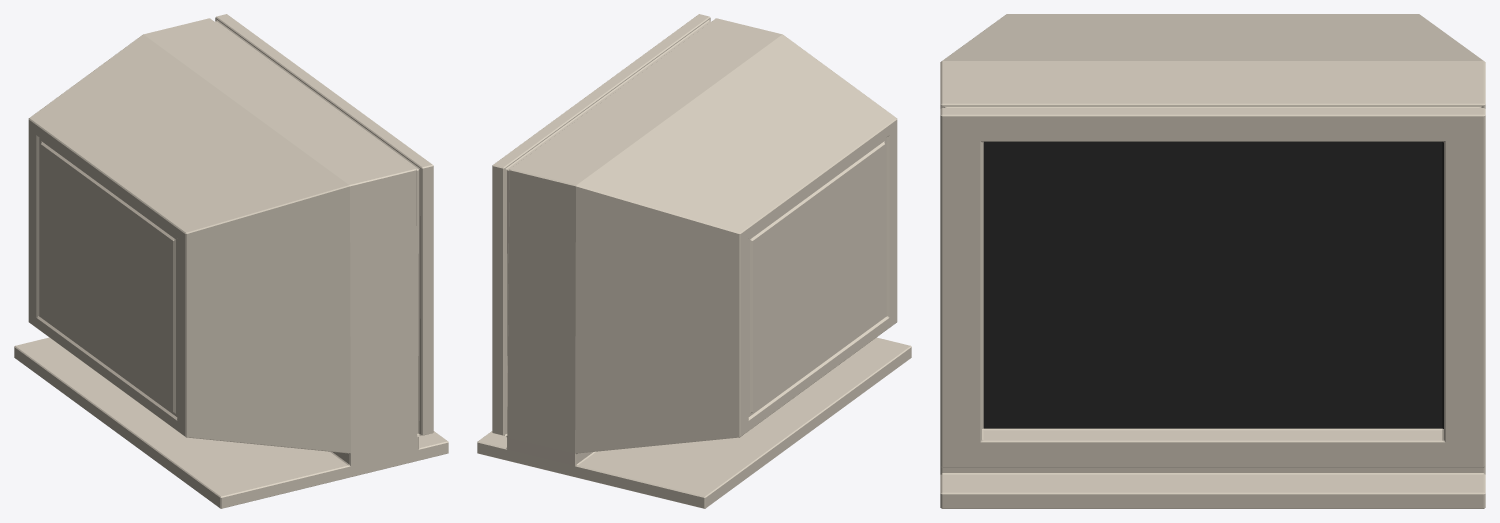
Rendered from Computer.fbx.
3 renders of one model, left to right at view 1: azimuth 30°, elevation 25°; view 2: azimuth 150°, elevation 25°; view 3: azimuth 270°, elevation 25°, orthographic. The views are drawn at different scales.
Parts seen in each view (by area): view 1: Computer.001; view 2: Computer.001; view 3: Computer.001.
Boxes of the visible parts, bbox=[...] form: Computer.001: bbox=[14, 14, 448, 508]; Computer.001: bbox=[477, 14, 911, 508]; Computer.001: bbox=[940, 14, 1485, 508].
Size of the model in its own units: 166 by 194 by 249.
